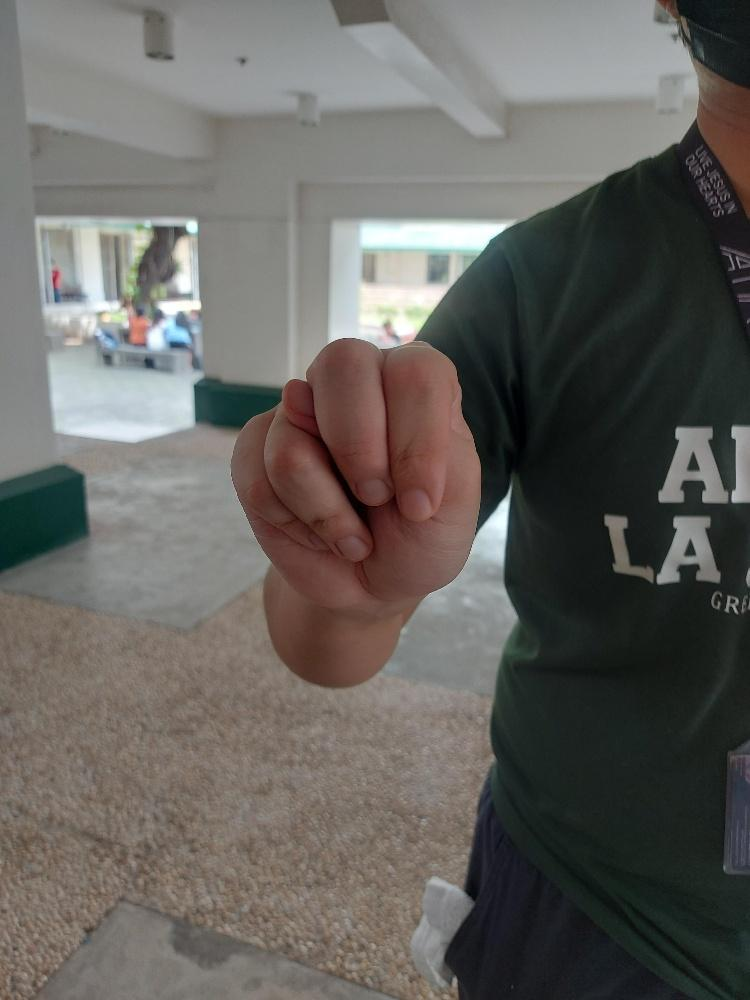n: (228, 336, 485, 611)
